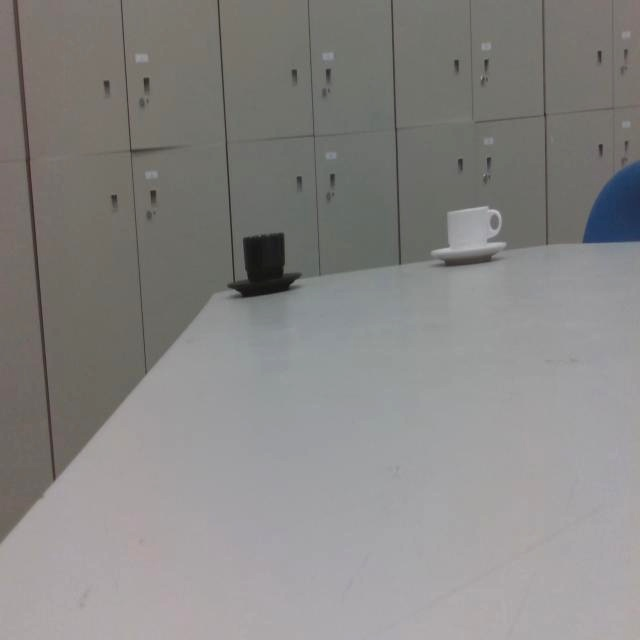black: (225, 230, 304, 298)
white: (427, 205, 508, 267)
